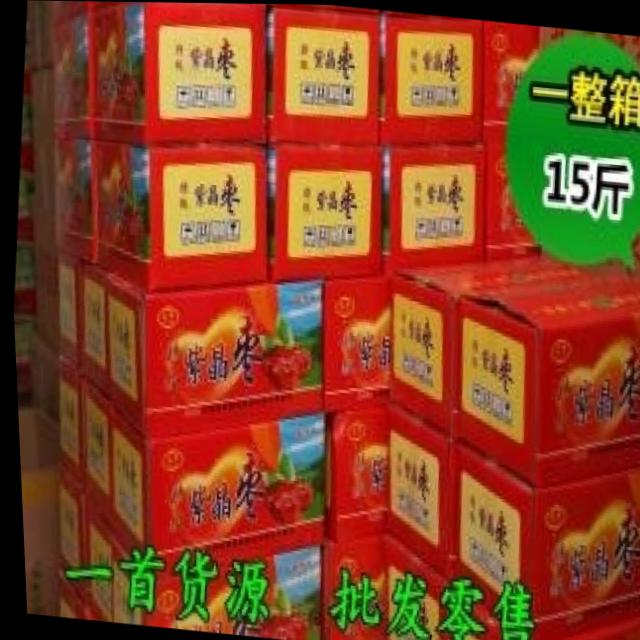box: (446, 258, 640, 486), (436, 434, 640, 639), (101, 272, 321, 436), (386, 251, 582, 434), (104, 403, 320, 563), (106, 515, 320, 640), (93, 140, 265, 291), (93, 1, 266, 146), (264, 142, 381, 281), (264, 4, 378, 145), (375, 14, 482, 145), (377, 144, 483, 273), (381, 399, 446, 573), (446, 583, 638, 640), (320, 271, 389, 413), (319, 399, 386, 542), (481, 120, 543, 257), (377, 527, 448, 640), (14, 405, 52, 616), (316, 527, 381, 640), (482, 18, 539, 120), (51, 9, 94, 140), (52, 133, 93, 265), (77, 372, 107, 534), (49, 456, 80, 601), (77, 264, 104, 397), (79, 494, 106, 621), (53, 355, 79, 485), (30, 133, 55, 256), (50, 567, 104, 621), (54, 253, 79, 369), (28, 329, 56, 418), (31, 253, 55, 355), (23, 0, 53, 69), (29, 63, 54, 143), (11, 323, 34, 406), (16, 142, 32, 250), (11, 249, 32, 324), (19, 69, 33, 143), (53, 1, 92, 23)
